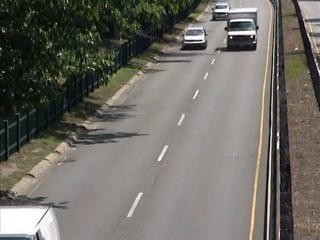car: (183, 27, 208, 53), (210, 2, 231, 22)
truck: (224, 8, 261, 52)
